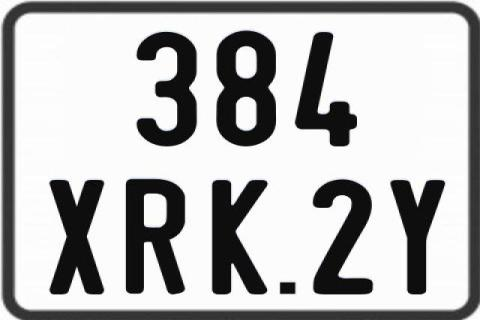0: (137, 31, 199, 149), (216, 30, 277, 148), (294, 32, 357, 146), (312, 177, 373, 293)
K: (209, 180, 271, 296)
R: (126, 177, 188, 293)
X: (50, 178, 109, 294)
Y: (391, 180, 446, 299)
